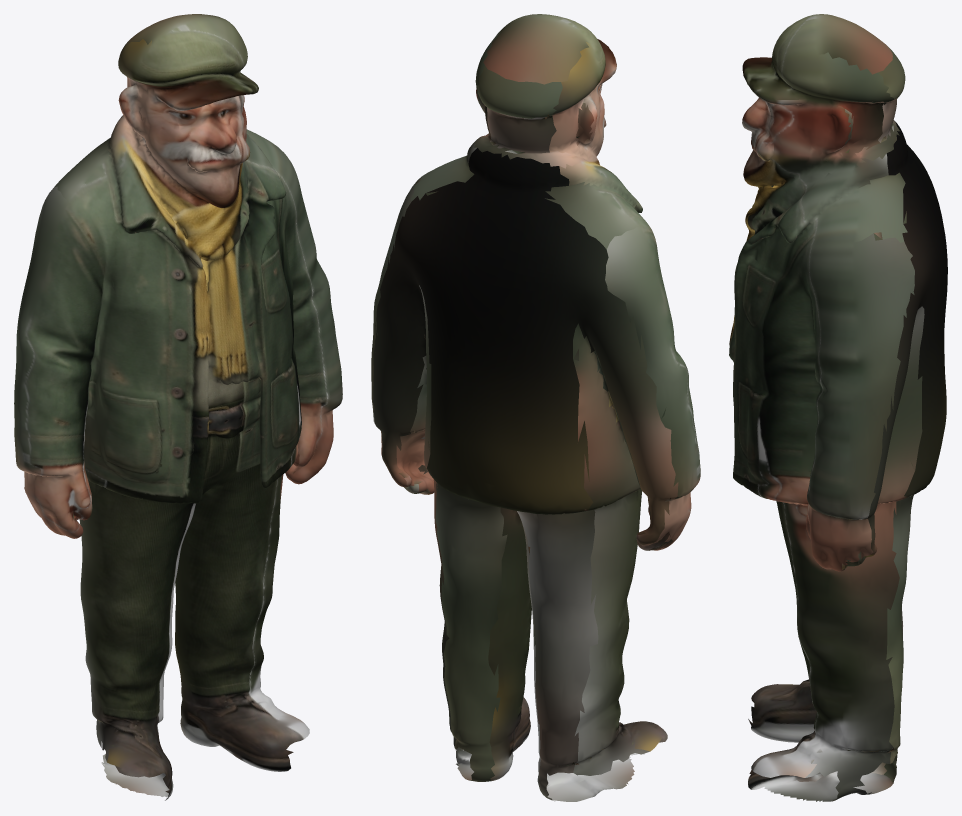
File: kade.glb
The picture shows the model from 3 angles, left to right: view 1: azimuth 30°, elevation 25°; view 2: azimuth 150°, elevation 25°; view 3: azimuth 270°, elevation 25°; orthographic projection.
Visible parts, largest first — view 1: perso; view 2: perso; view 3: perso.
Boxes of the visible parts, box(x1,y1,x2,y2) form: perso: box(14, 14, 342, 800); perso: box(371, 14, 700, 801); perso: box(729, 14, 947, 801).
Size of the model in its own units: 0.8871 by 1.99 by 0.5318.
1 material, 1 textured.
